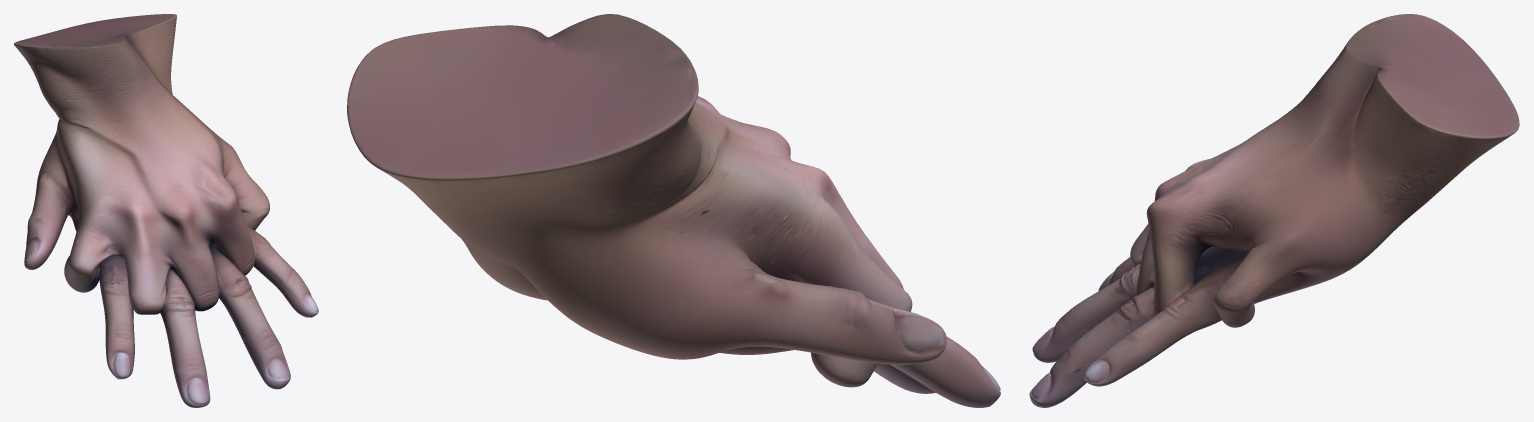
Rendered from shou.fbx.
The picture shows the model from 3 angles, left to right: view 1: azimuth 30°, elevation 25°; view 2: azimuth 150°, elevation 25°; view 3: azimuth 270°, elevation 25°; orthographic projection. The views are drawn at different scales.
Visible parts, largest first — view 1: Mesh_0; view 2: Mesh_0; view 3: Mesh_0.
Boxes of the visible parts, x1=… form: Mesh_0: x1=14, y1=14, x2=318, y2=407; Mesh_0: x1=347, y1=14, x2=1000, y2=407; Mesh_0: x1=1029, y1=14, x2=1519, y2=407.
Size of the model in its own units: 65.82 by 71.53 by 94.79.
Materials: 1 (1 with a texture image).
